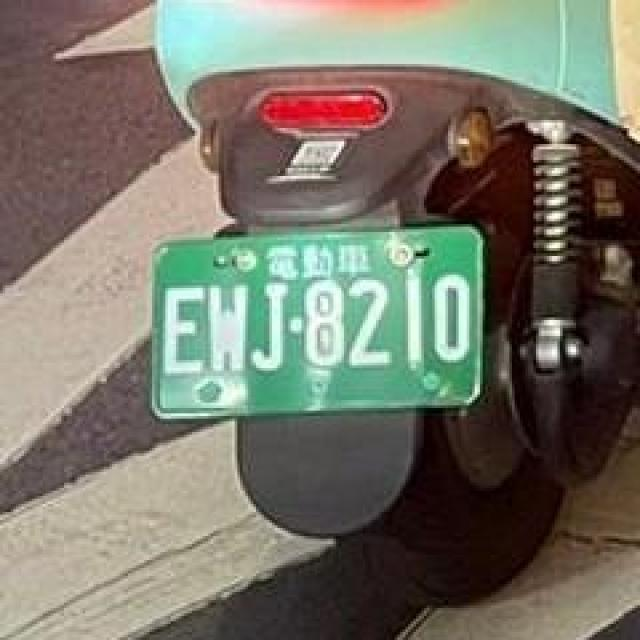GW: (136, 203, 499, 437)
